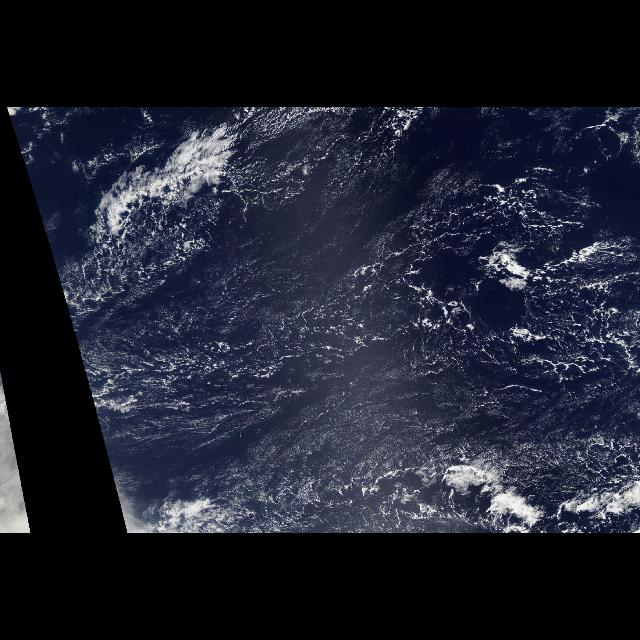Gravel: (150, 190, 640, 452)
Sugar: (111, 240, 617, 478)
